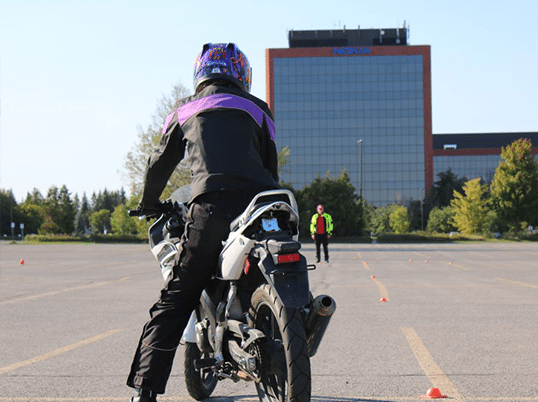helmet: (152, 29, 336, 391)
